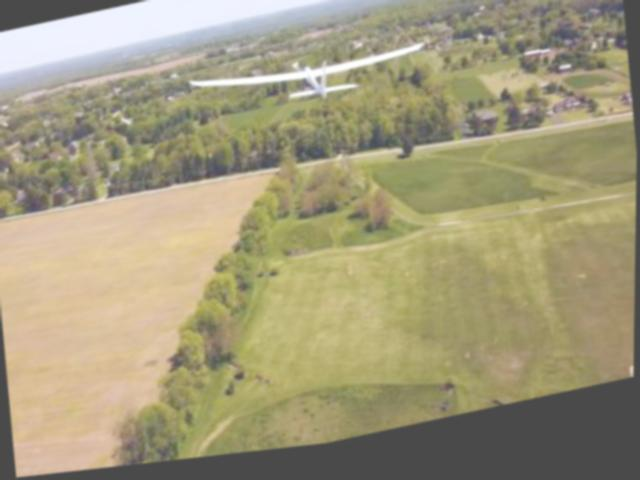uav: (178, 24, 443, 146)
